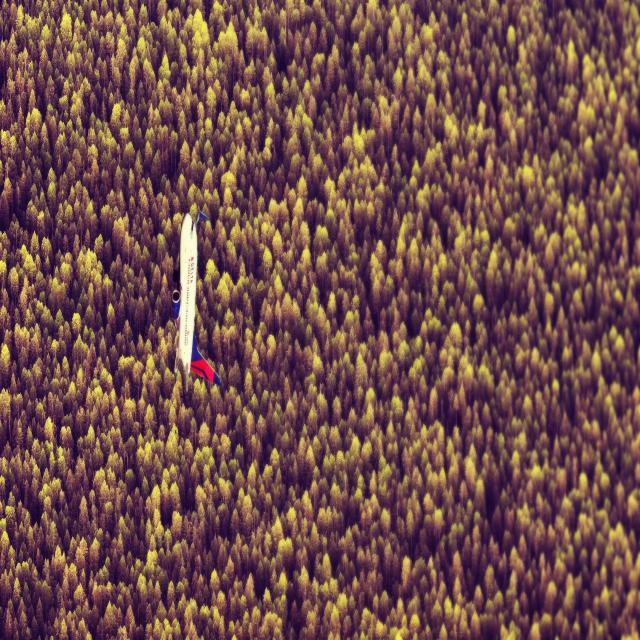airplane: (170, 209, 222, 392)
